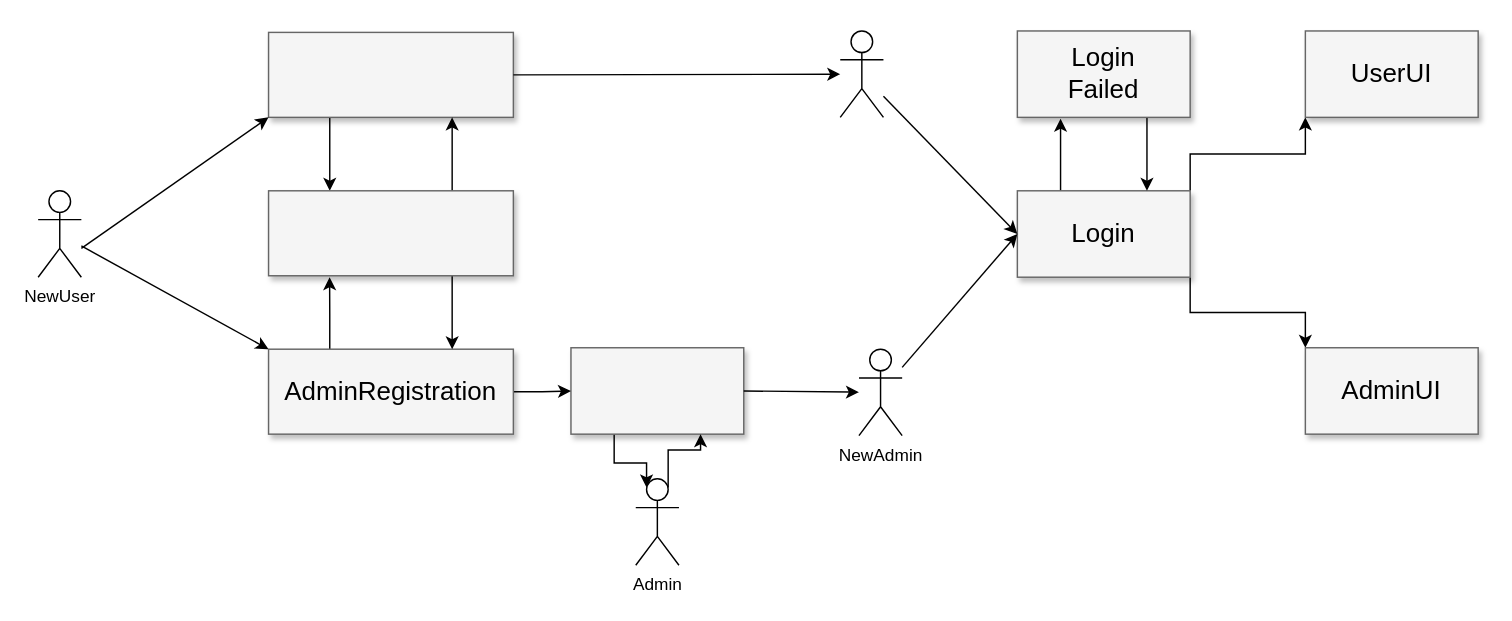
This 1512x621 diagram has some shape labels left out. The centre of each missing label's shape, as x and y in pixels:
"AdminRights Granted" goes at pixel 658 392.
"Registration Failed" goes at pixel 391 235.
"User" goes at pixel 861 73.
"UserRegistration" goes at pixel 391 76.
